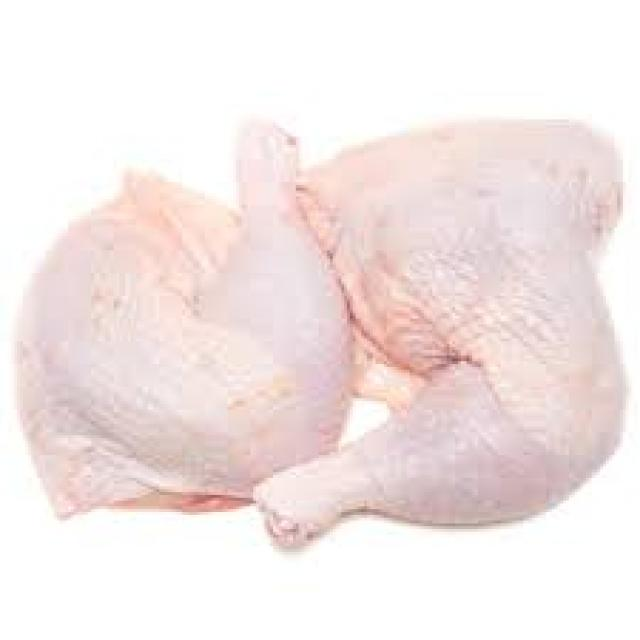chicken: (20, 122, 626, 545), (20, 128, 350, 516)
